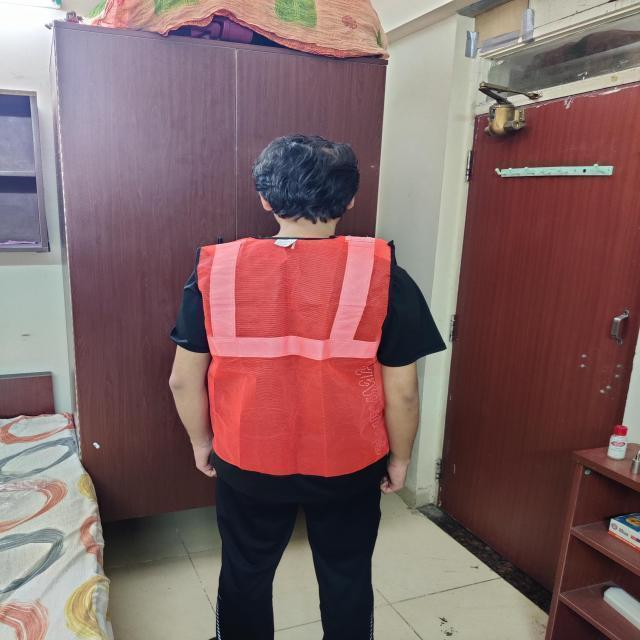no-helmet: (251, 129, 363, 235)
vest: (196, 235, 392, 480)
